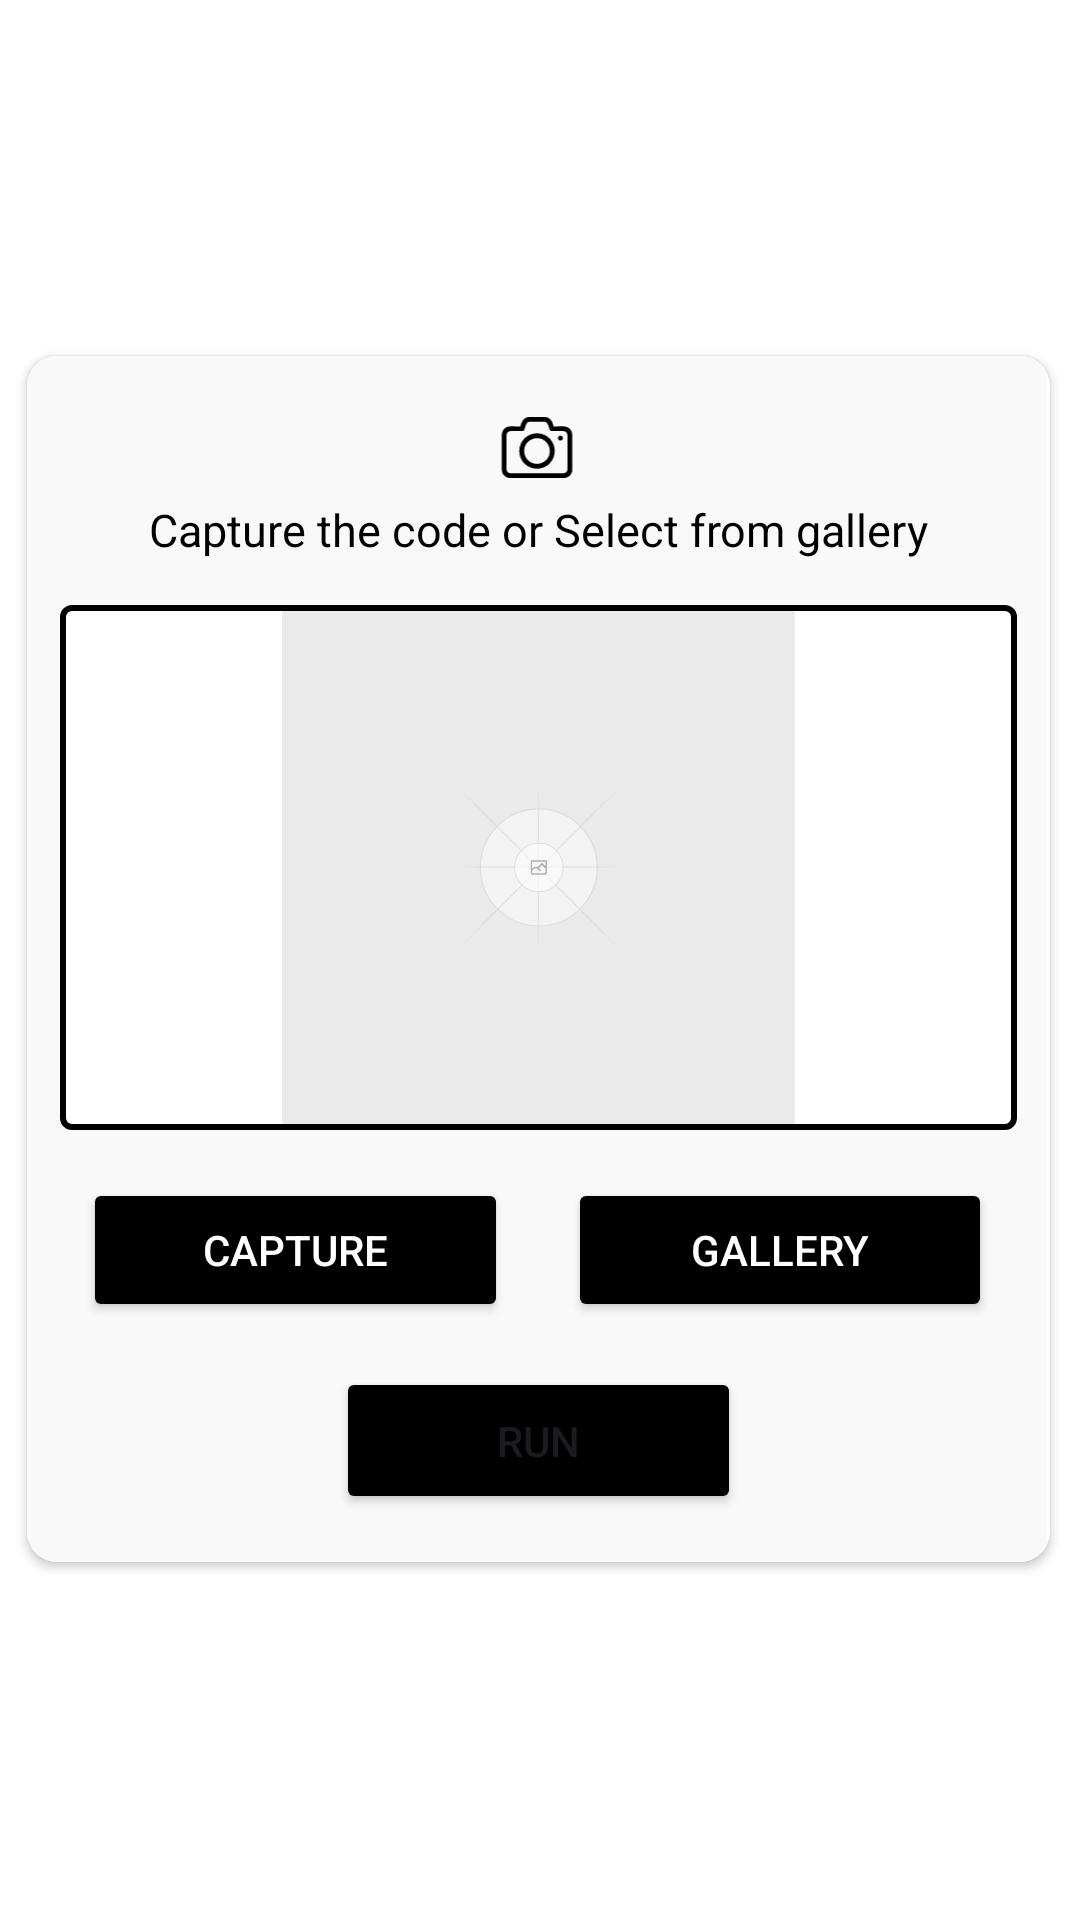

Screen size 1080×1920. Icon name, then its center in pixels as point (x, y):
cami: point (537, 447)
